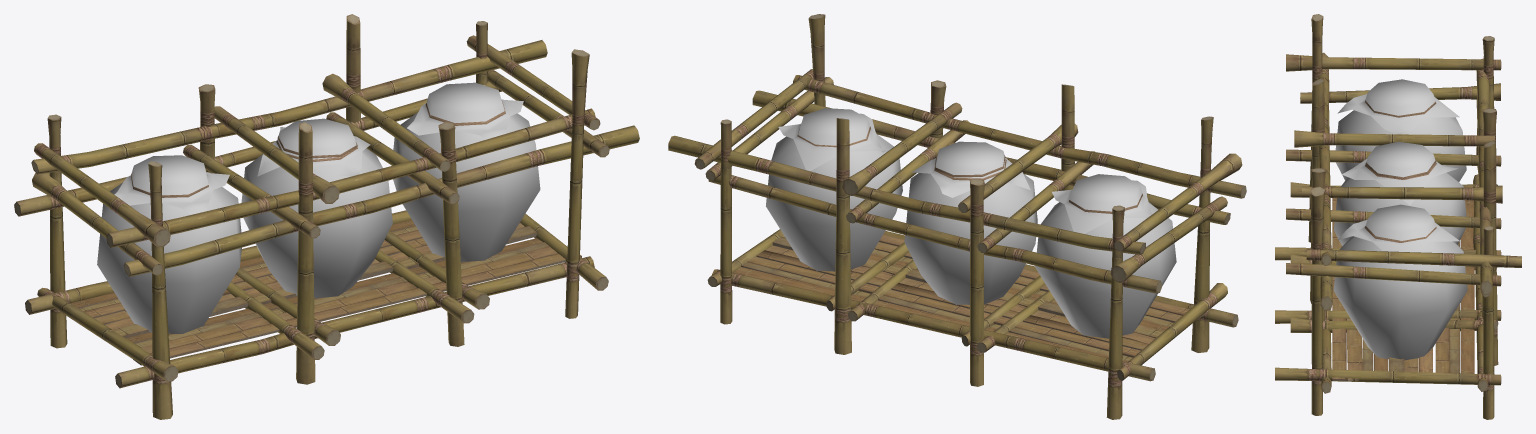
File: Homeworld_Exterior_Ly_Decoration_Junk_03_Lod0.fbx
3 views of the same model, side by side, from view 1: azimuth 30°, elevation 25°; view 2: azimuth 150°, elevation 25°; view 3: azimuth 270°, elevation 25° (orthographic). The views are drawn at different scales.
Visible parts, largest first — view 1: Area_Ly_Props_HZ_Cluster_F_Lod0; view 2: Area_Ly_Props_HZ_Cluster_F_Lod0; view 3: Area_Ly_Props_HZ_Cluster_F_Lod0.
Part boxes in pixels (x1,y1,x2,y2): Area_Ly_Props_HZ_Cluster_F_Lod0: [14, 14, 639, 419]; Area_Ly_Props_HZ_Cluster_F_Lod0: [668, 14, 1246, 419]; Area_Ly_Props_HZ_Cluster_F_Lod0: [1275, 14, 1521, 419].
Size of the model in its own units: 3.41 by 1.61 by 1.59.
